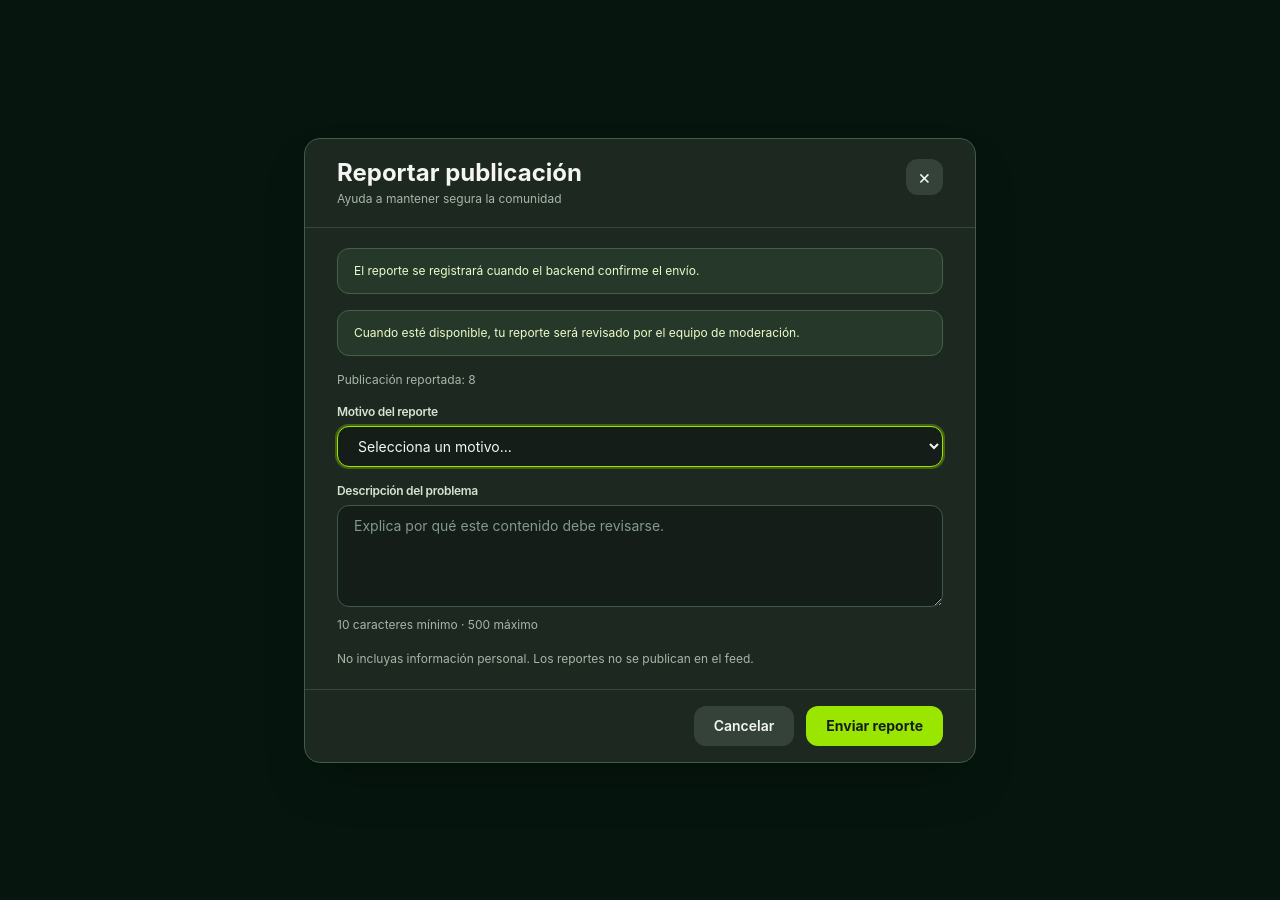
Test: ReportarPublicacionModal › mantiene el modal abierto con el error del servidor
Select "Spam o publicidad" in the dropdown labelled "Motivo del reporte" at {"x": 640, "y": 446}, box [337,426,943,466]
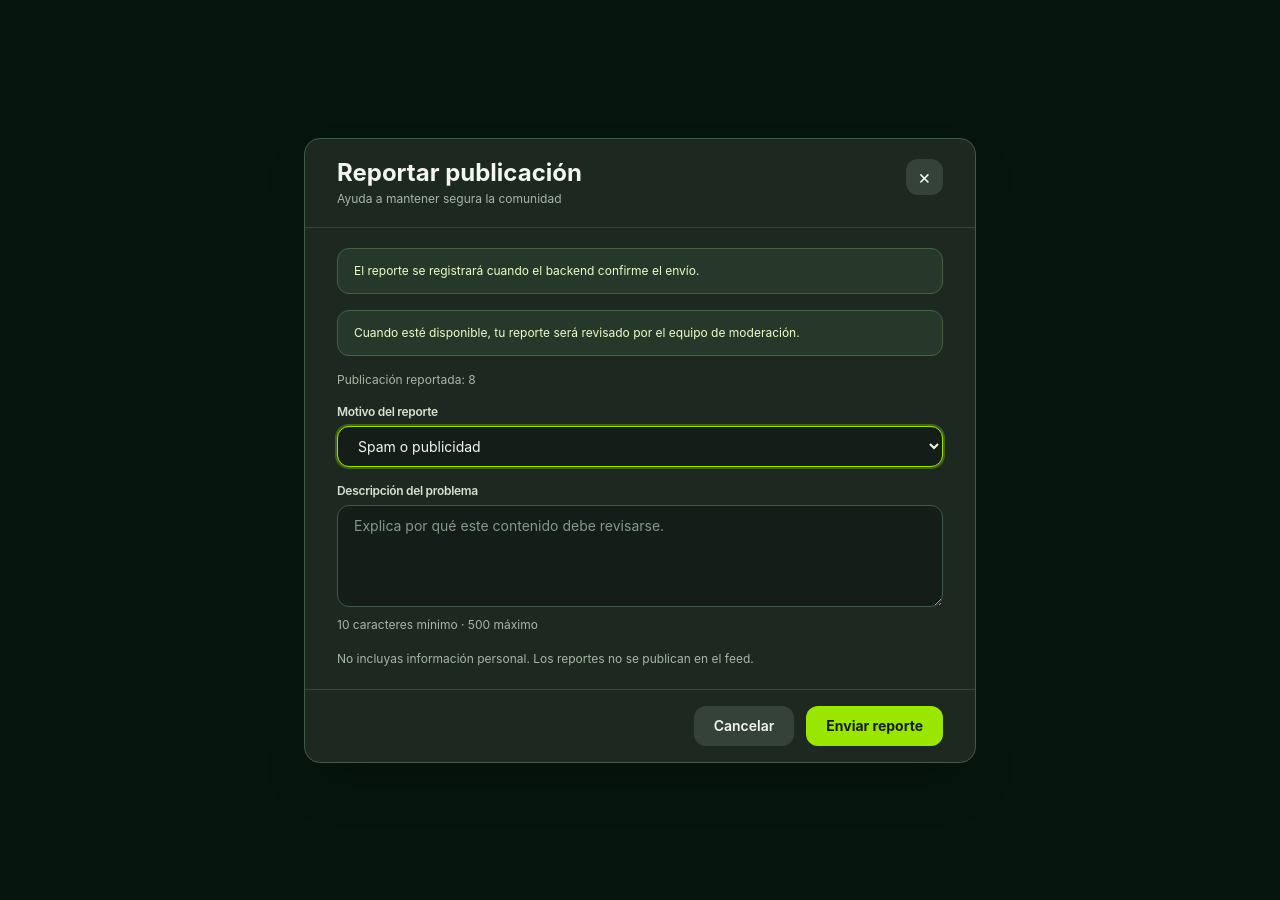
Type "Publicidad repetida en varias publicaciones del feed." into the text box labelled "Descripción del problema" at {"x": 640, "y": 556}, box [337,504,943,606]
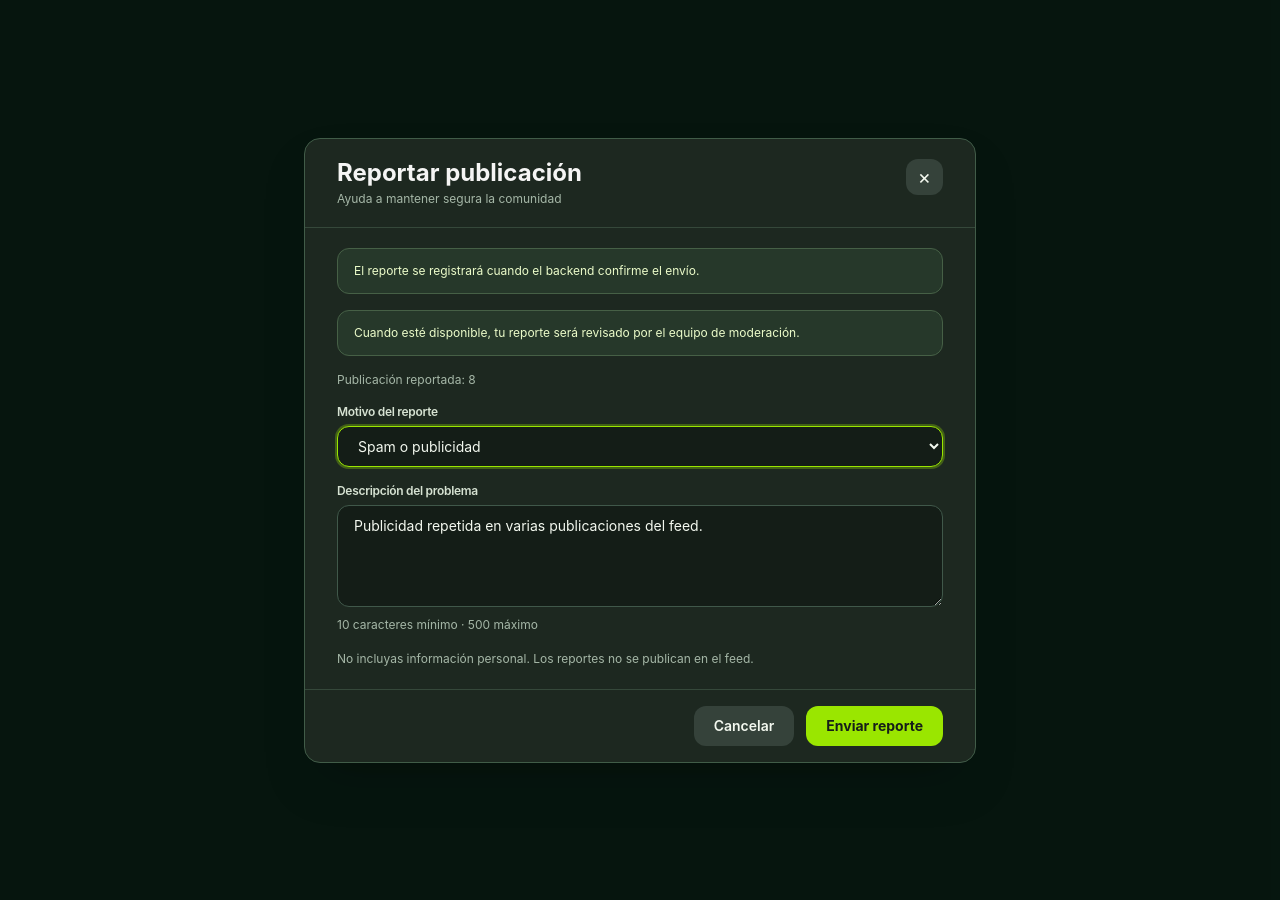
Click the button "Enviar reporte" at {"x": 875, "y": 726}, box [806,706,943,746]
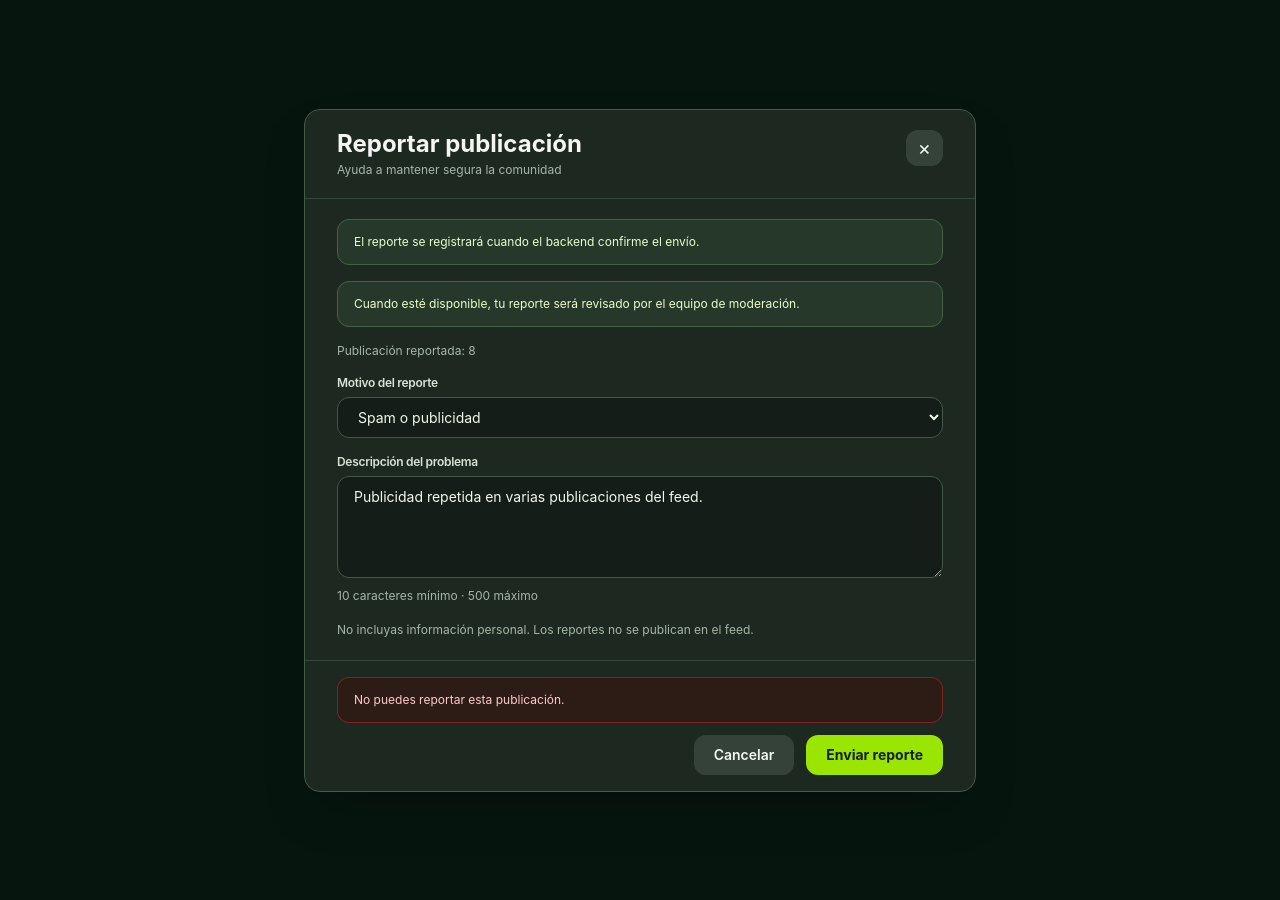
Expected: the dialog is shown, [304,108,976,792]
Now the text "No puedes reportar esta publicación." is shown, box [337,676,943,722]
